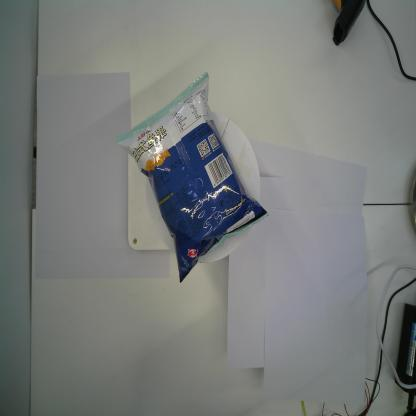Puffed Food: (116, 70, 268, 284)
